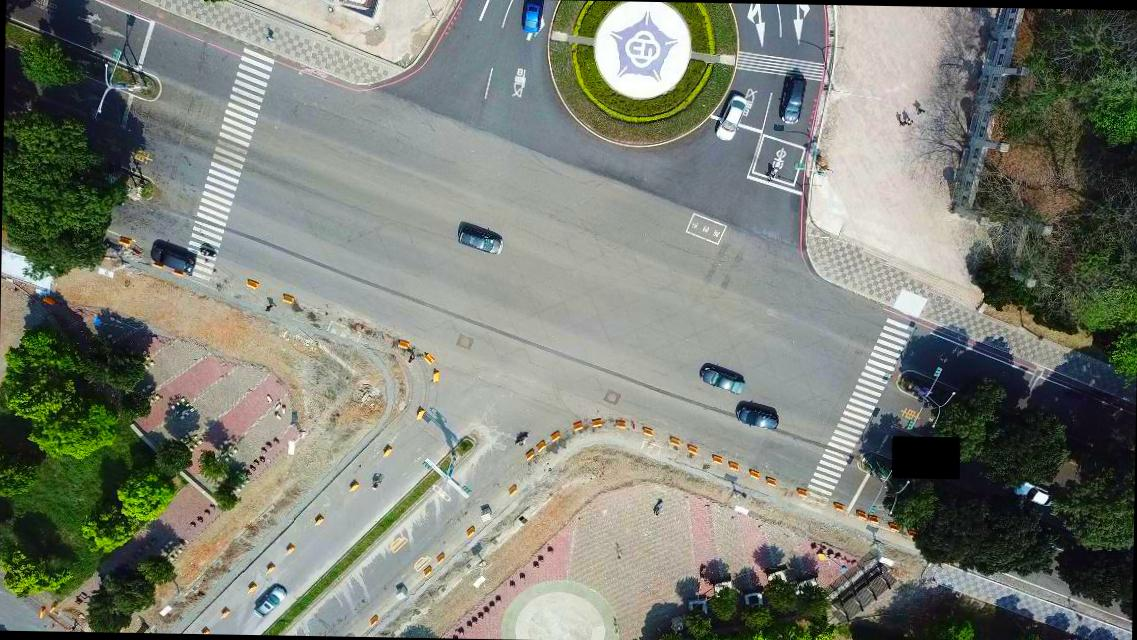vehicle: (714, 94, 748, 142), (698, 363, 746, 395), (148, 244, 195, 276), (778, 75, 807, 124), (458, 225, 504, 254), (253, 584, 286, 618), (1012, 482, 1054, 508), (736, 406, 780, 429), (520, 0, 543, 33)
